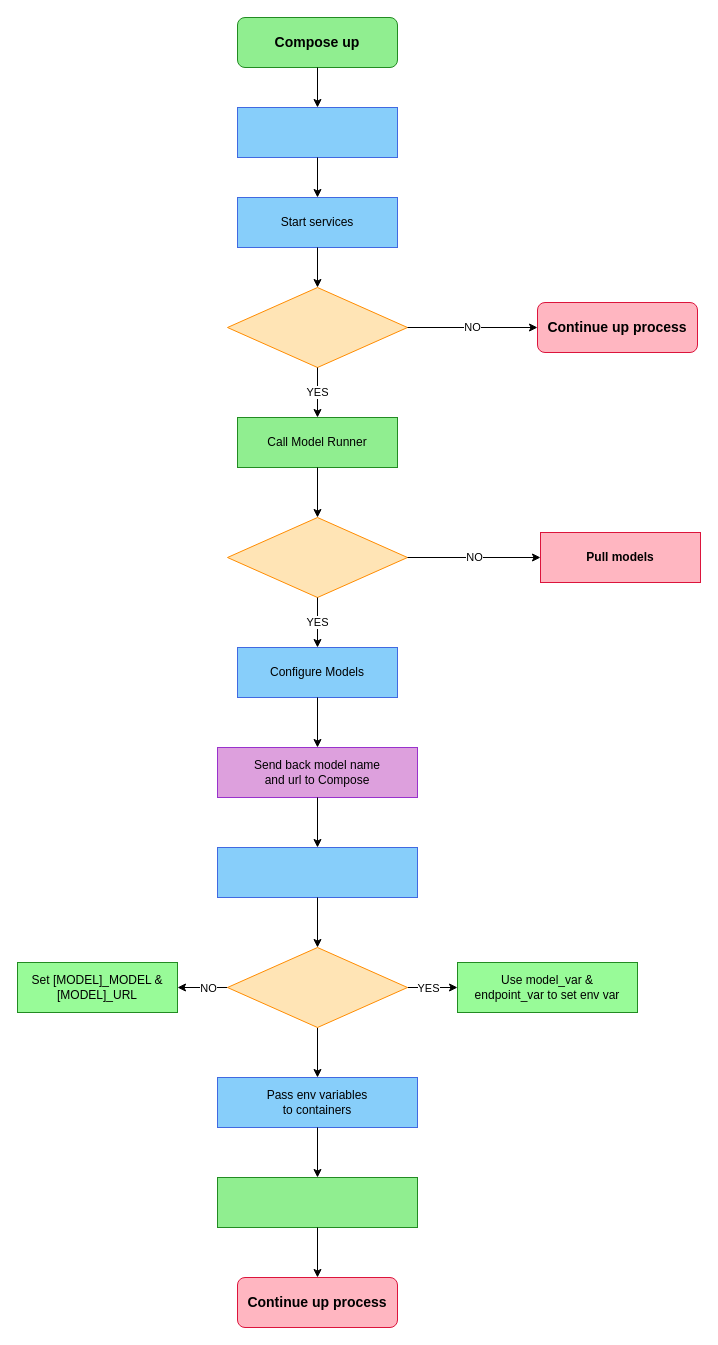
Image size: 718x1345. Some labels were removed from this diagram. The centre of each missing label's shape, as x and y in pixels:
Check 'models': point (317, 327)
Custom env variables?: point (317, 987)
Need to pull missing models?: point (317, 557)
Parse Compose files: point (317, 132)
Set env variables for service containers: point (317, 872)
Start service containers: point (317, 1202)
